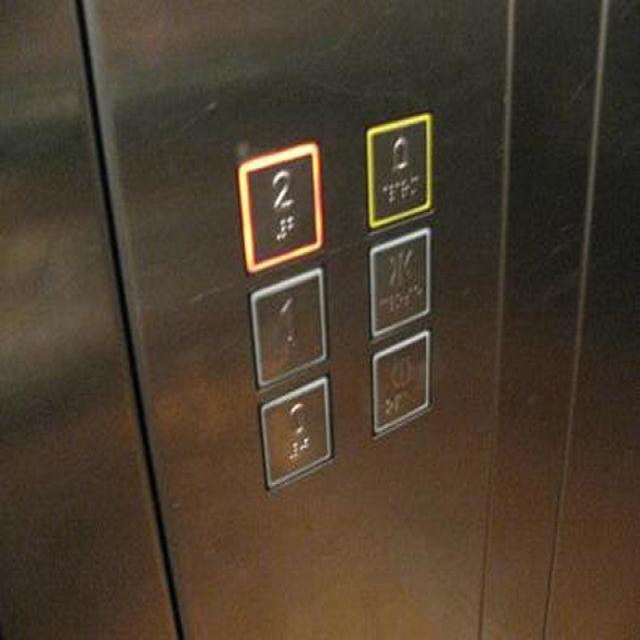0: (256, 379, 335, 489)
1: (248, 268, 327, 379)
2: (238, 136, 323, 271)
alarm: (362, 109, 433, 231)
close: (366, 230, 432, 330)
open: (371, 331, 431, 429)
